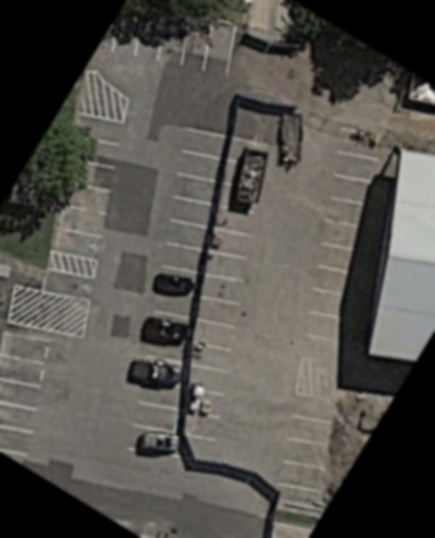parkingspot: (126, 124, 230, 459), (302, 125, 389, 346), (188, 202, 257, 397), (53, 112, 128, 261), (110, 4, 239, 78), (0, 326, 57, 460), (275, 390, 342, 494), (42, 267, 98, 303), (180, 408, 225, 443)
